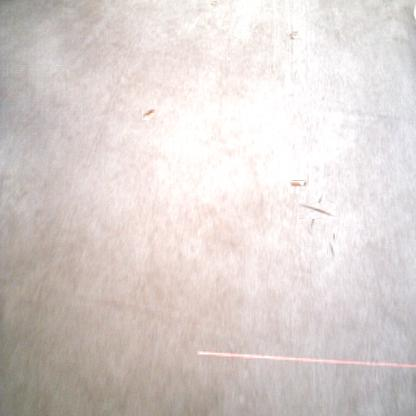dirty: (142, 110, 155, 122), (290, 180, 306, 186), (290, 32, 298, 40), (210, 1, 217, 5)
mark: (304, 198, 330, 224), (327, 232, 335, 257)
